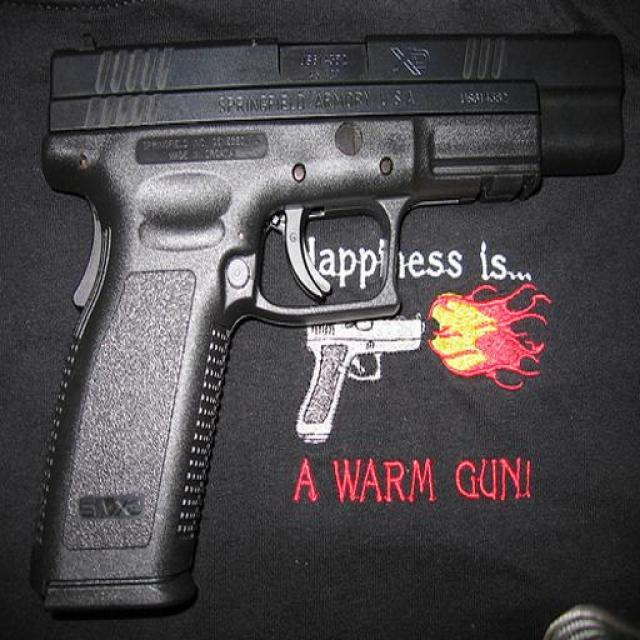pistol: (25, 26, 624, 612), (296, 305, 427, 445)
